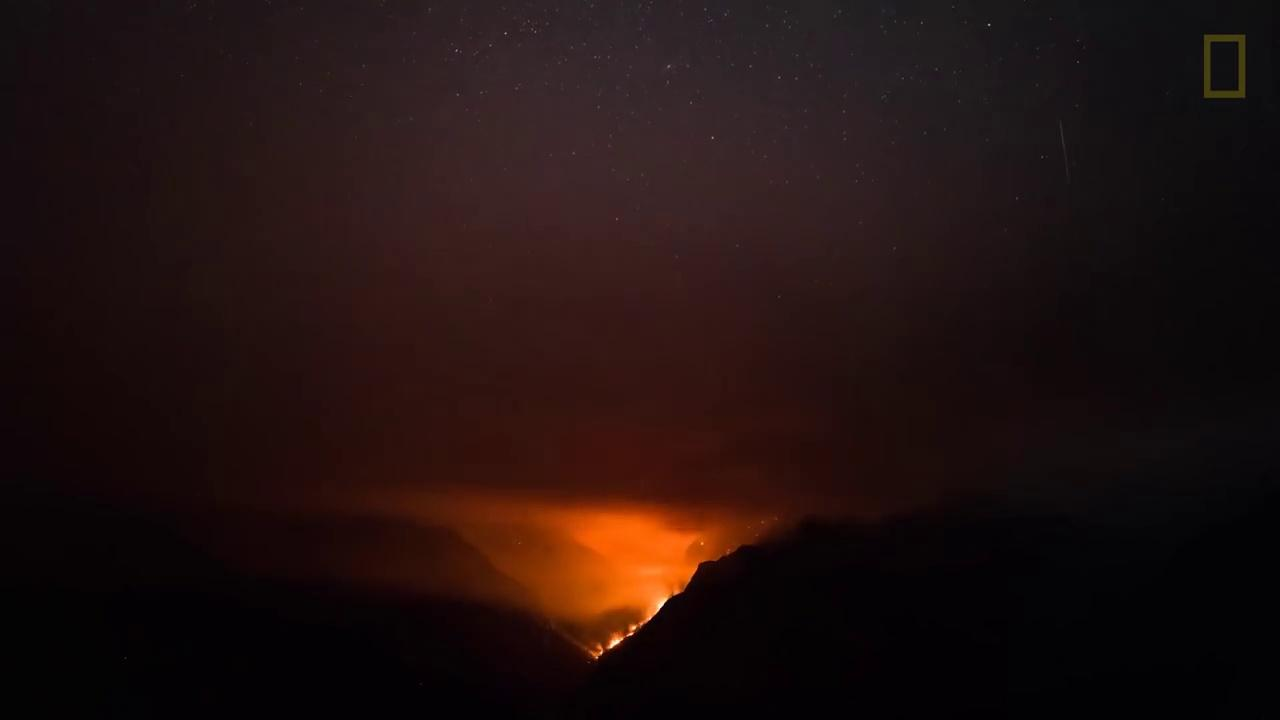Fire: (591, 595, 673, 659)
